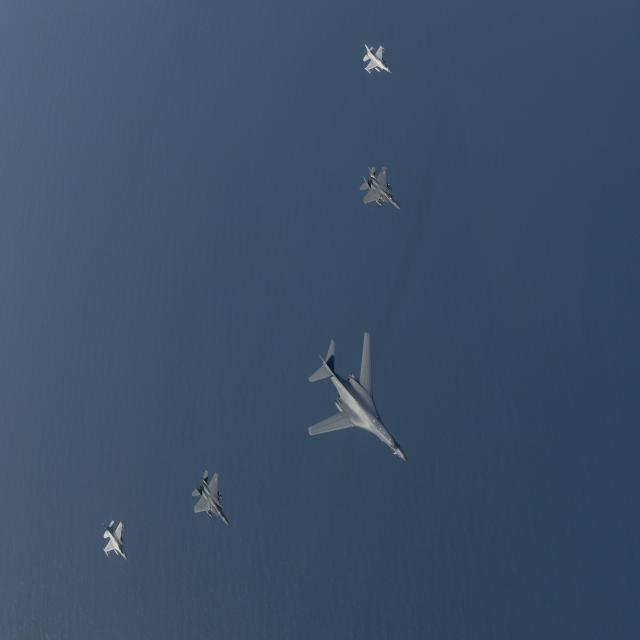MIL_Plane: (308, 357, 408, 424), (191, 469, 230, 526), (359, 166, 402, 211), (102, 520, 130, 563), (362, 43, 392, 75)
